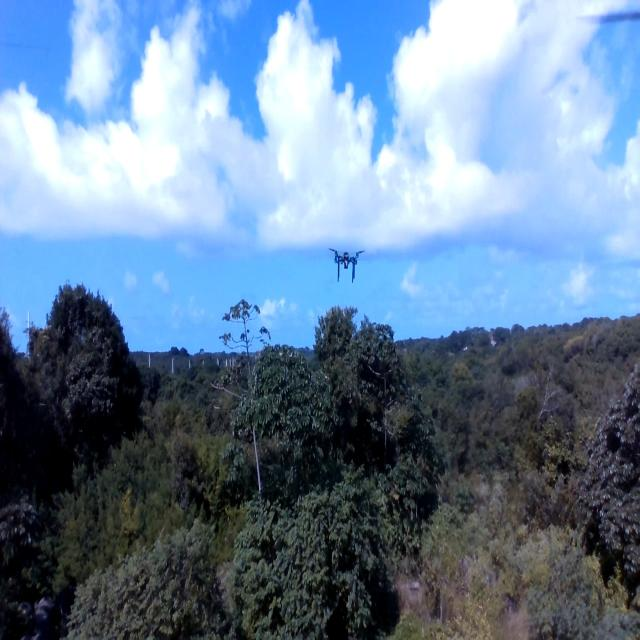-uav-: (315, 233, 380, 308)
